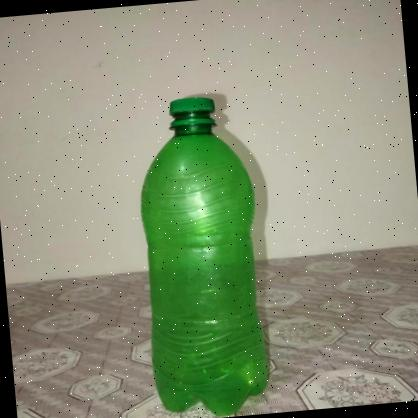bottle: (129, 95, 276, 418)
cap: (167, 96, 218, 128)
